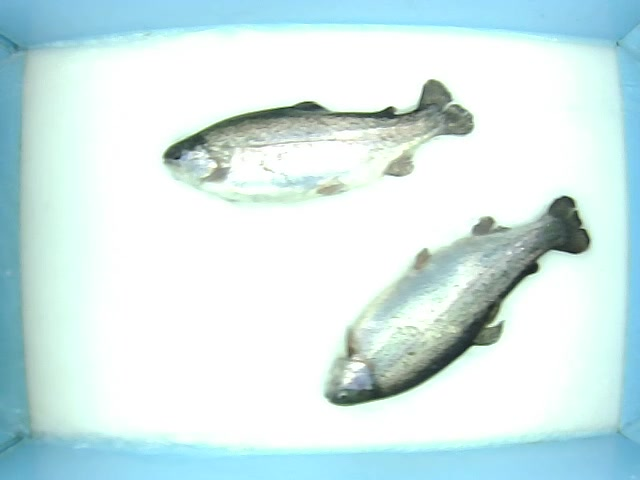fish: (320, 195, 592, 408), (160, 74, 477, 206)
